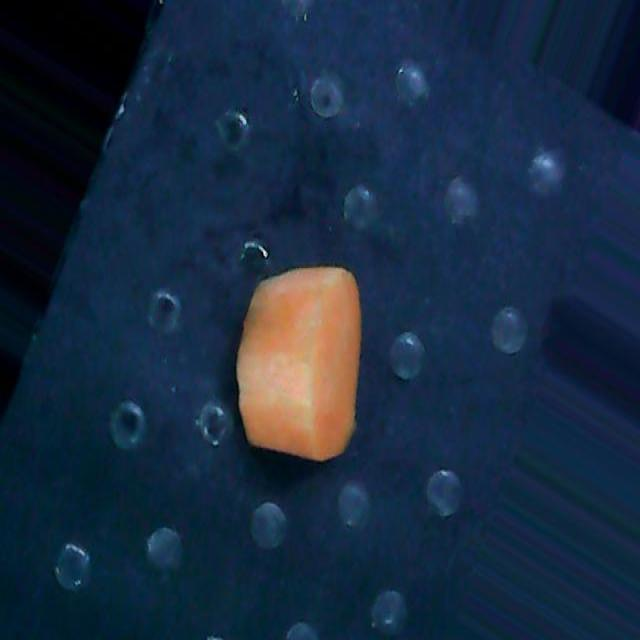-Kitchen waste - carrot-: (232, 262, 360, 464)
